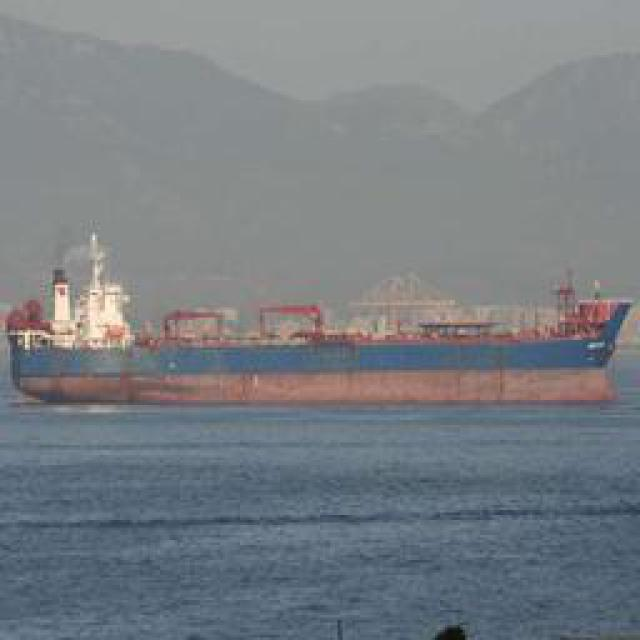Ship: (4, 281, 634, 416)
